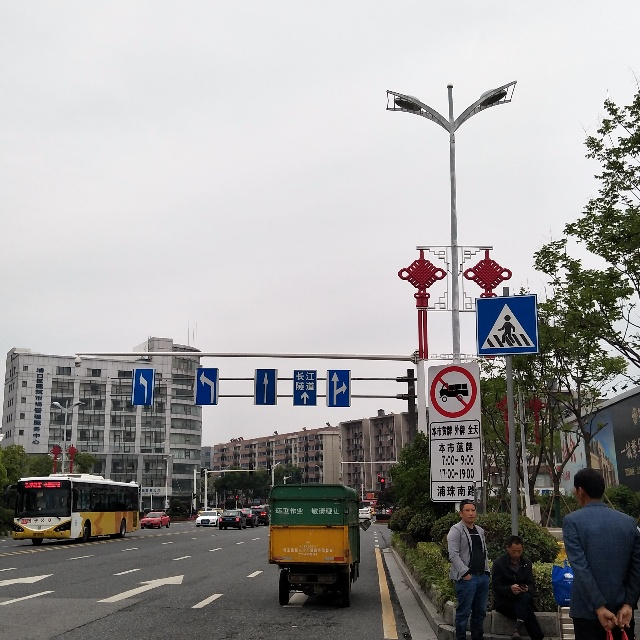left: (134, 364, 152, 402), (197, 371, 216, 406)
straight: (257, 369, 276, 406)
